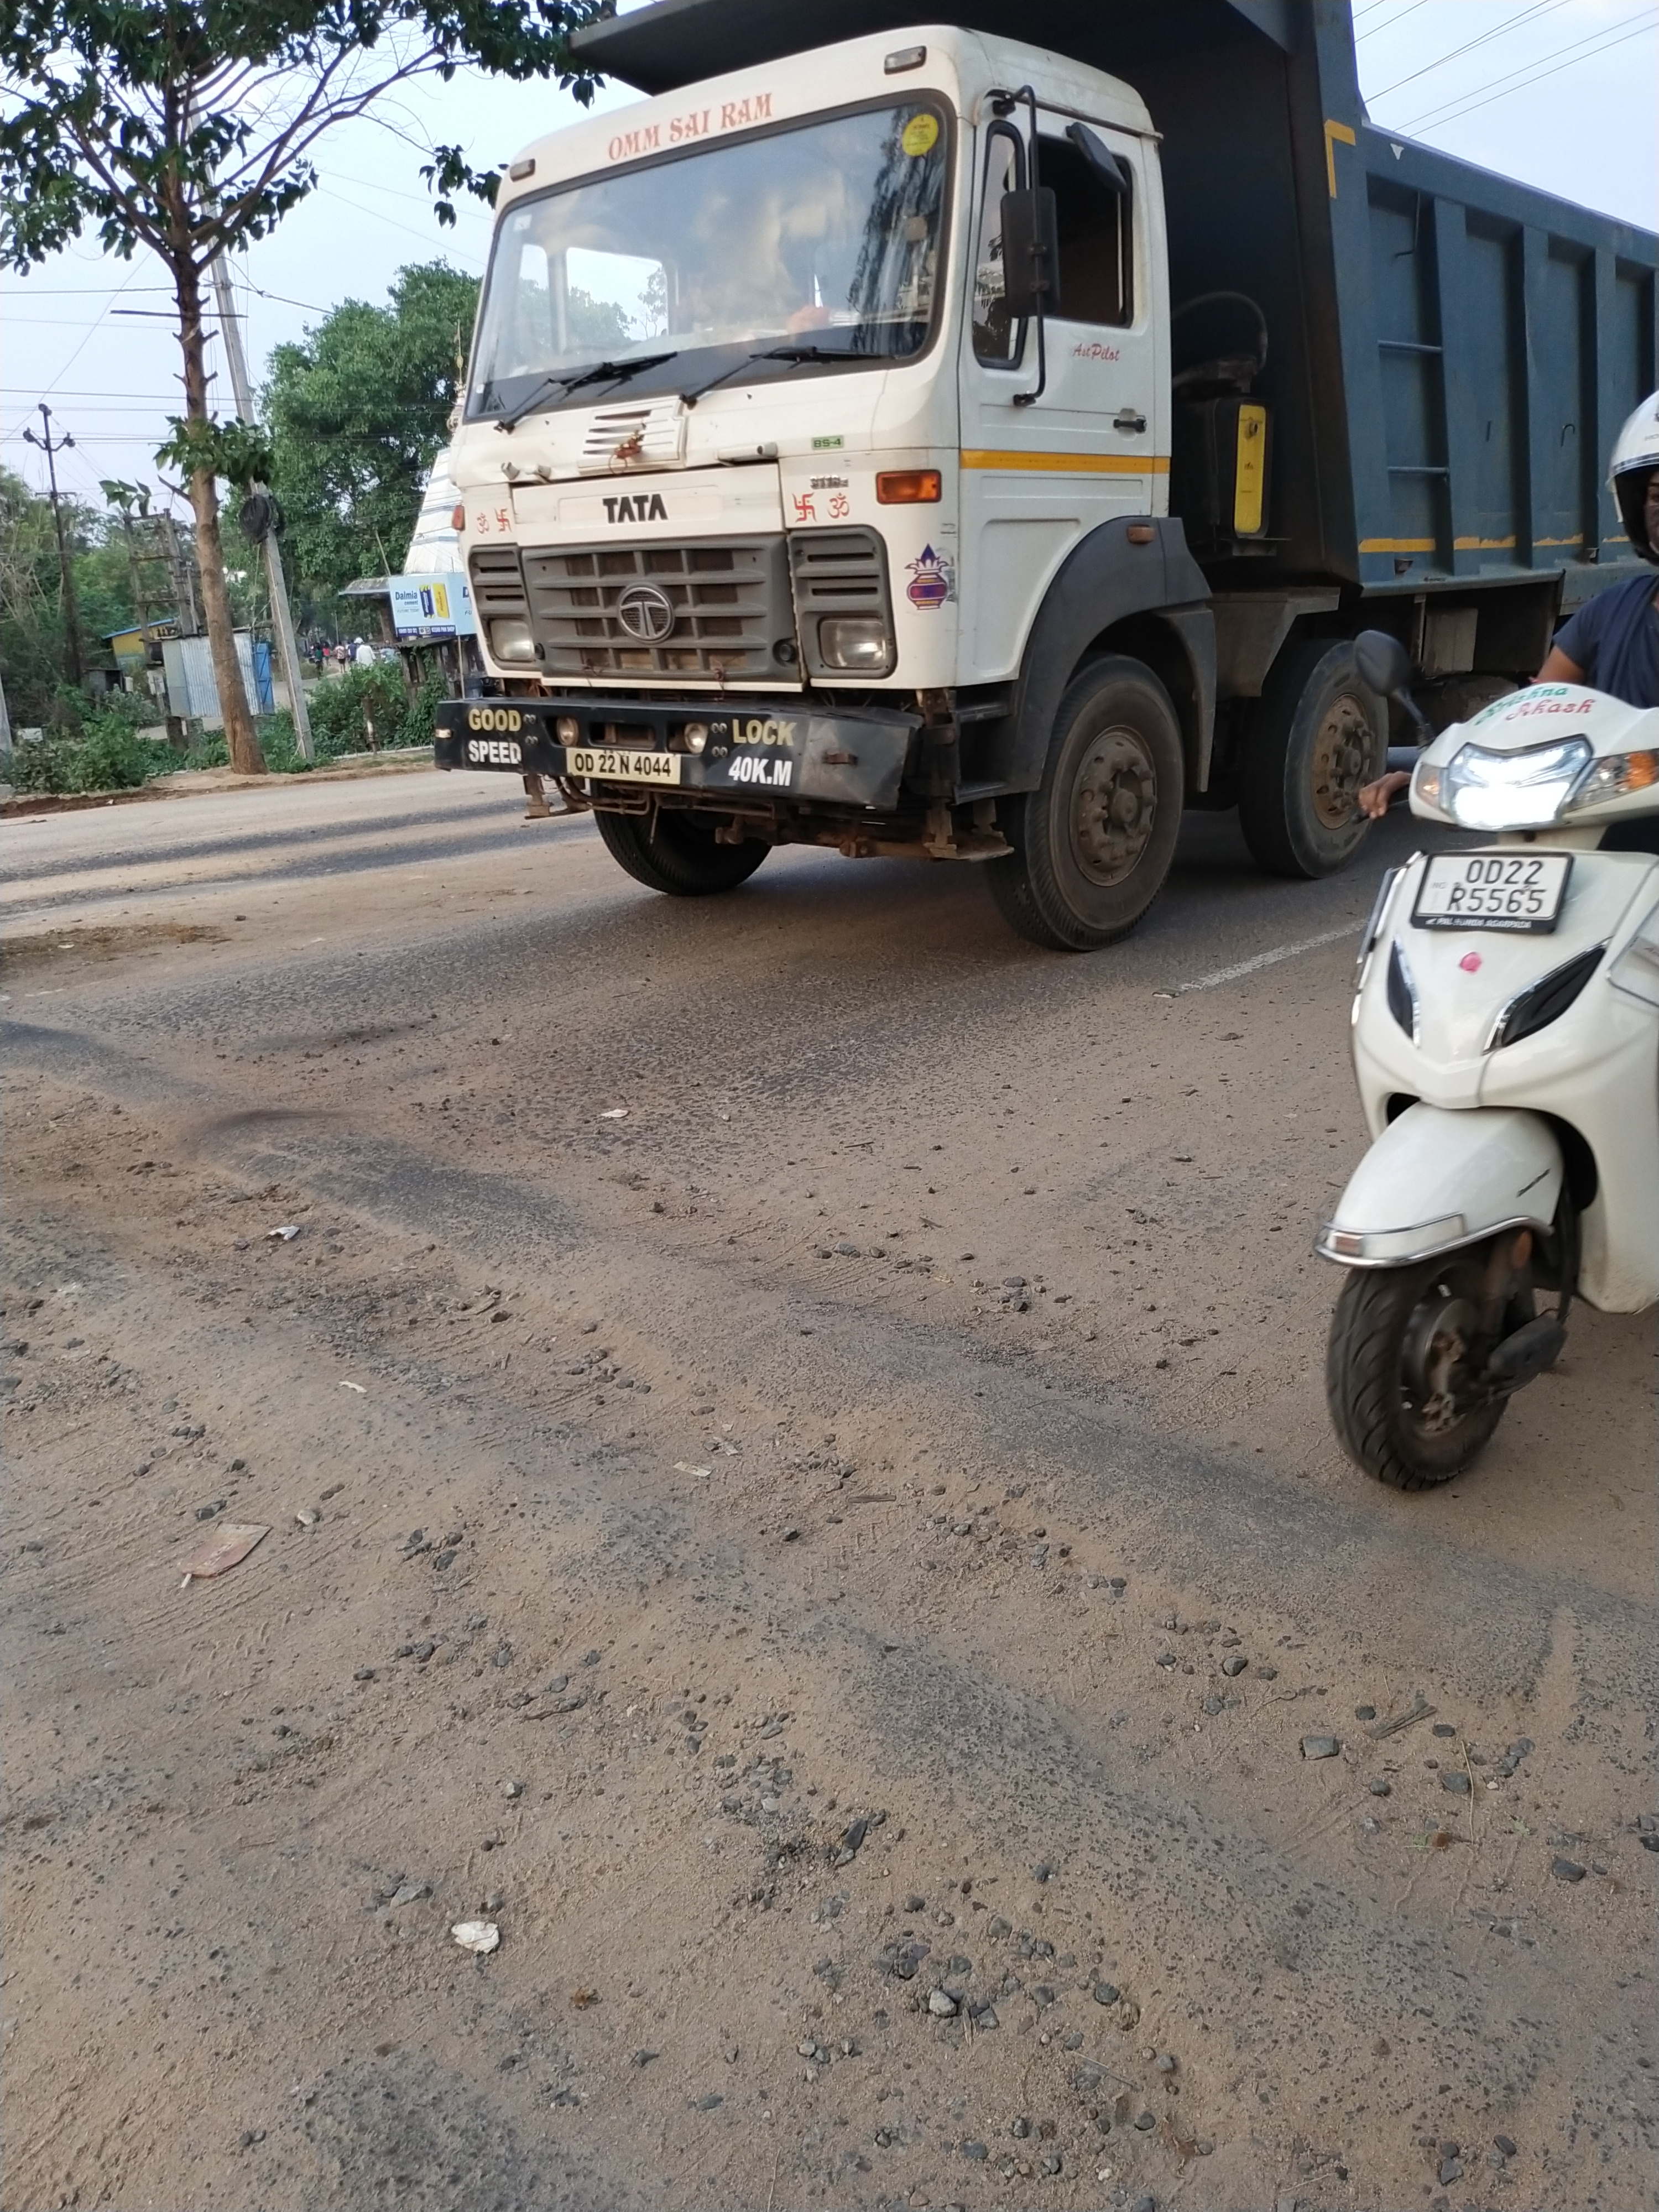truck: (429, 0, 1659, 954)
